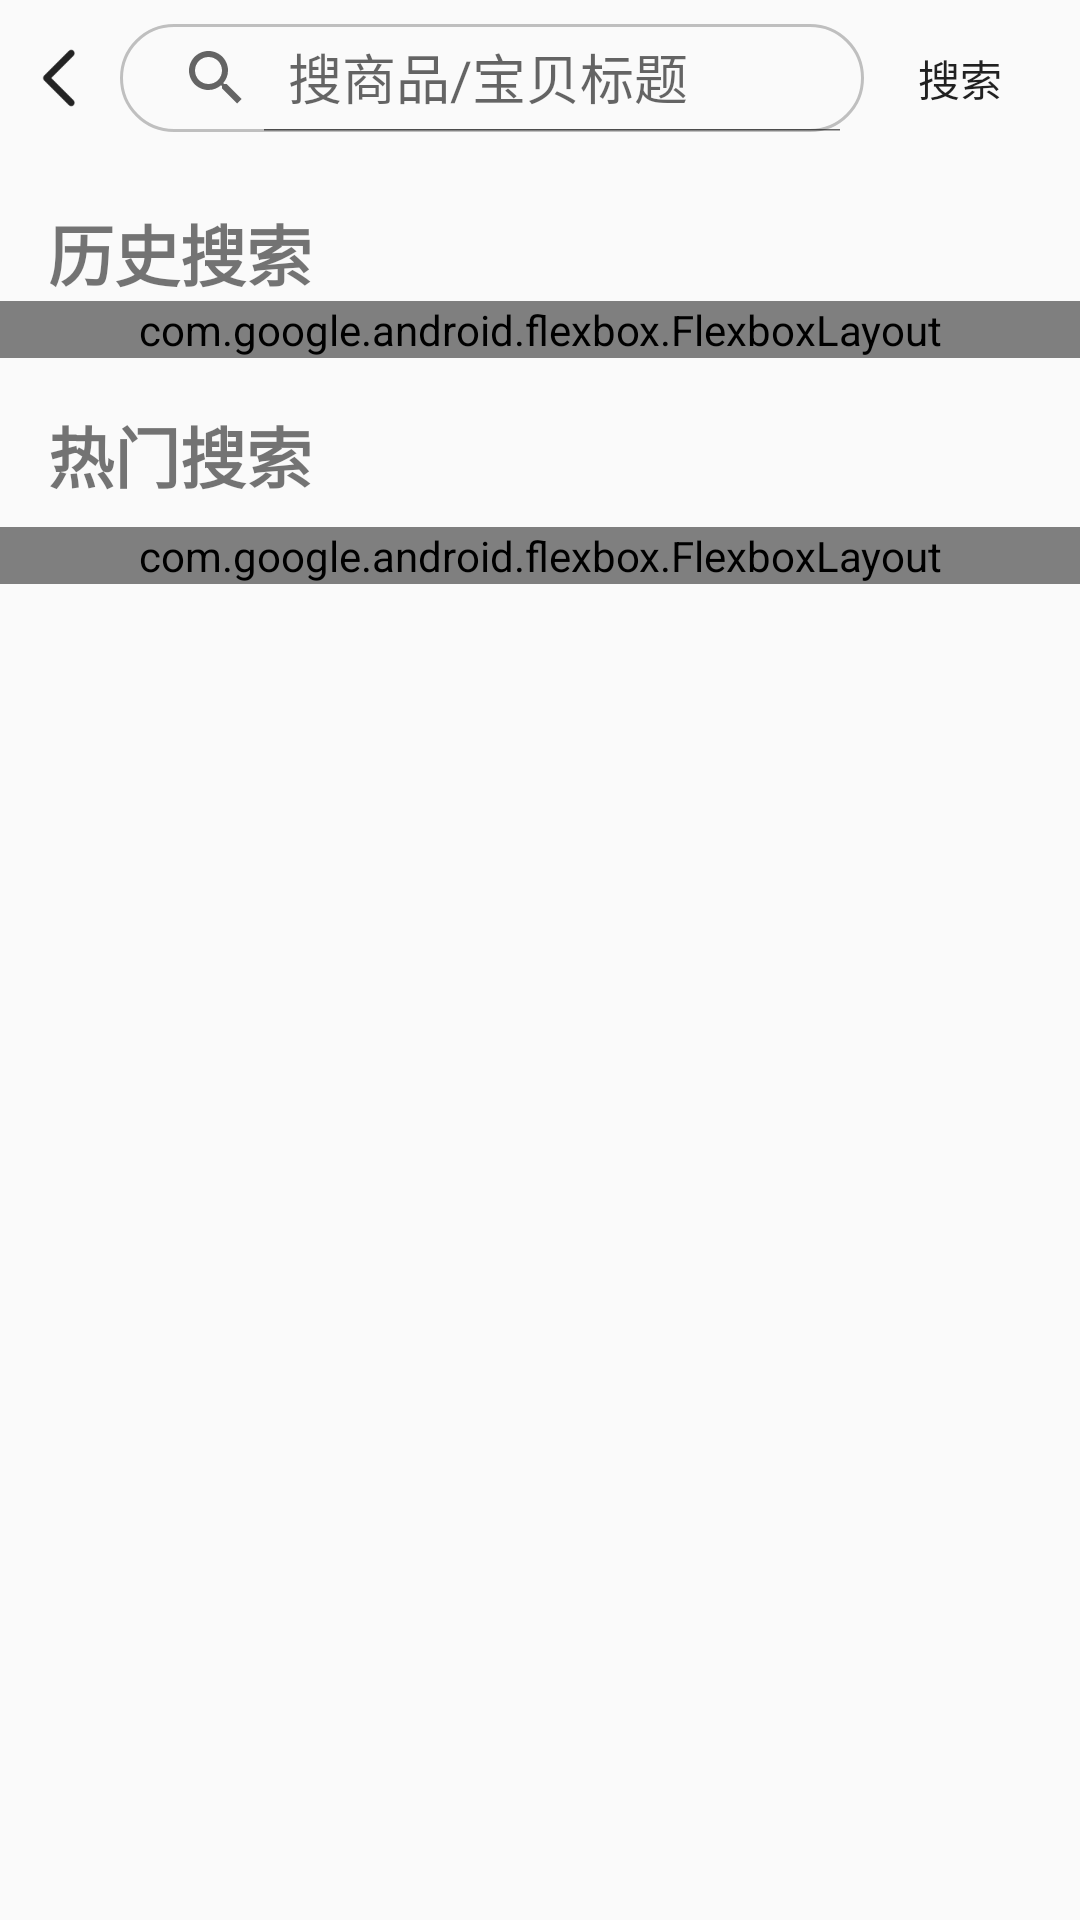

Named icons in this screenshot (1080px×1920px) and their bounding boxes, (x1, y1, x2, y2):
back: (43, 49, 75, 107)
